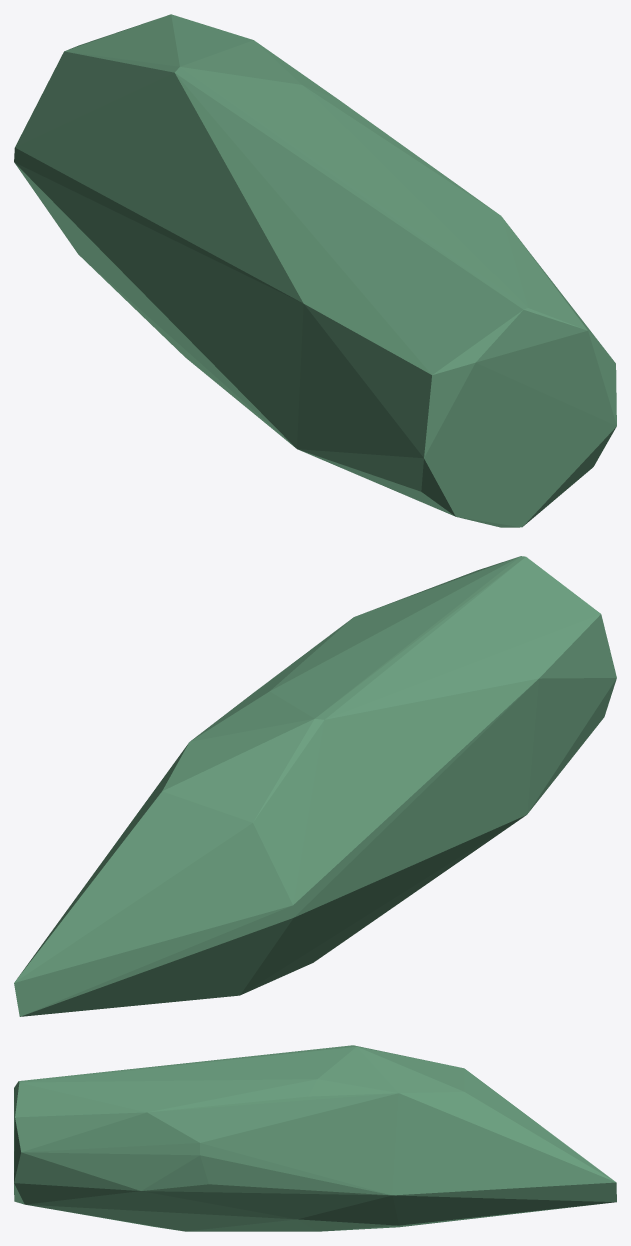
The model's file is bottle_laboratory_a01.glb.
The picture shows the model from 3 angles, top to bottom: view 1: azimuth 30°, elevation 25°; view 2: azimuth 150°, elevation 25°; view 3: azimuth 270°, elevation 25°; orthographic projection. The views are drawn at different scales.
Parts seen in each view (by area): view 1: geometry_0; view 2: geometry_0; view 3: geometry_0.
Boxes of the visible parts, <box> form: geometry_0: <box>14,14,616,527</box>; geometry_0: <box>14,556,616,1016</box>; geometry_0: <box>14,1045,616,1231</box>.
Size of the model in its own units: 0.1299 by 0.1452 by 0.4796.
